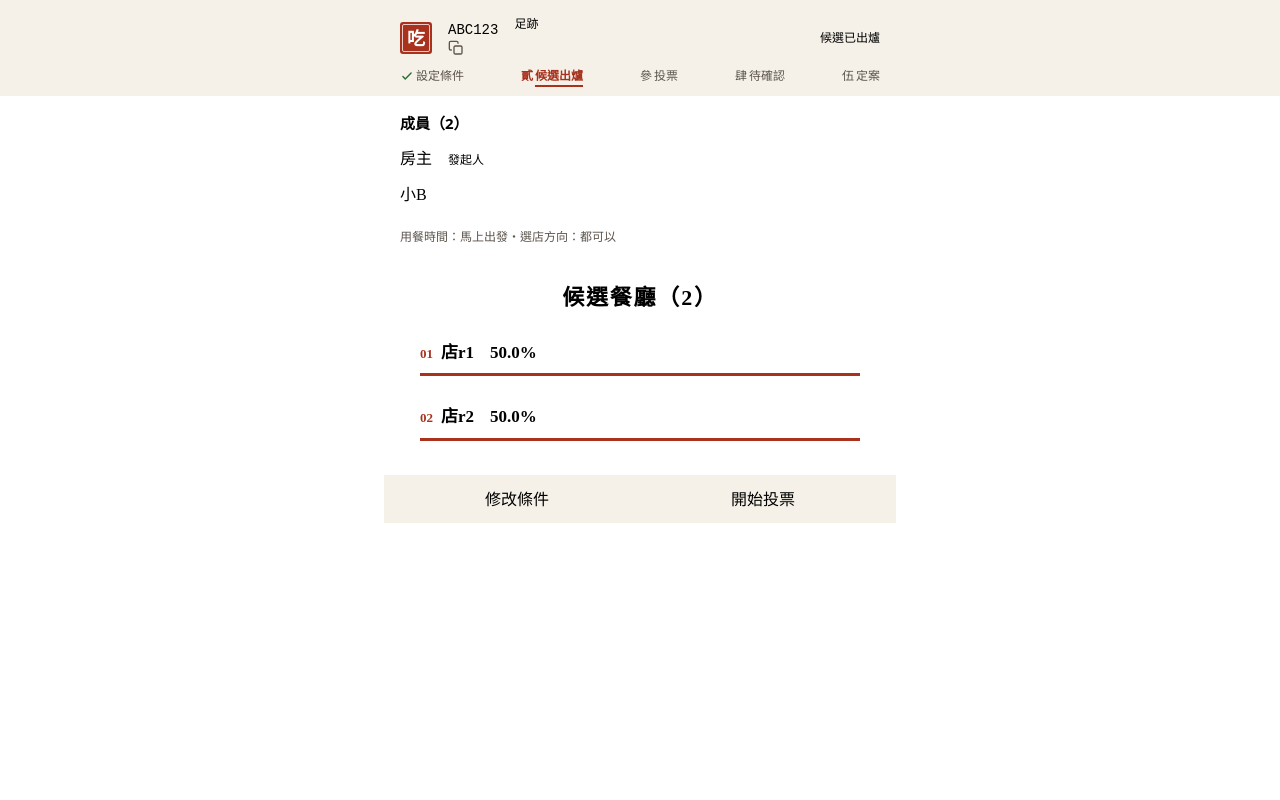
Test case: RoomPage 候選出爐：房主動作 › 開始投票已送出成功、只是重新載入失敗：如實說成功了，請使用者重新整理
Click the button "開始投票": [763, 498] box [646,486,880,510]
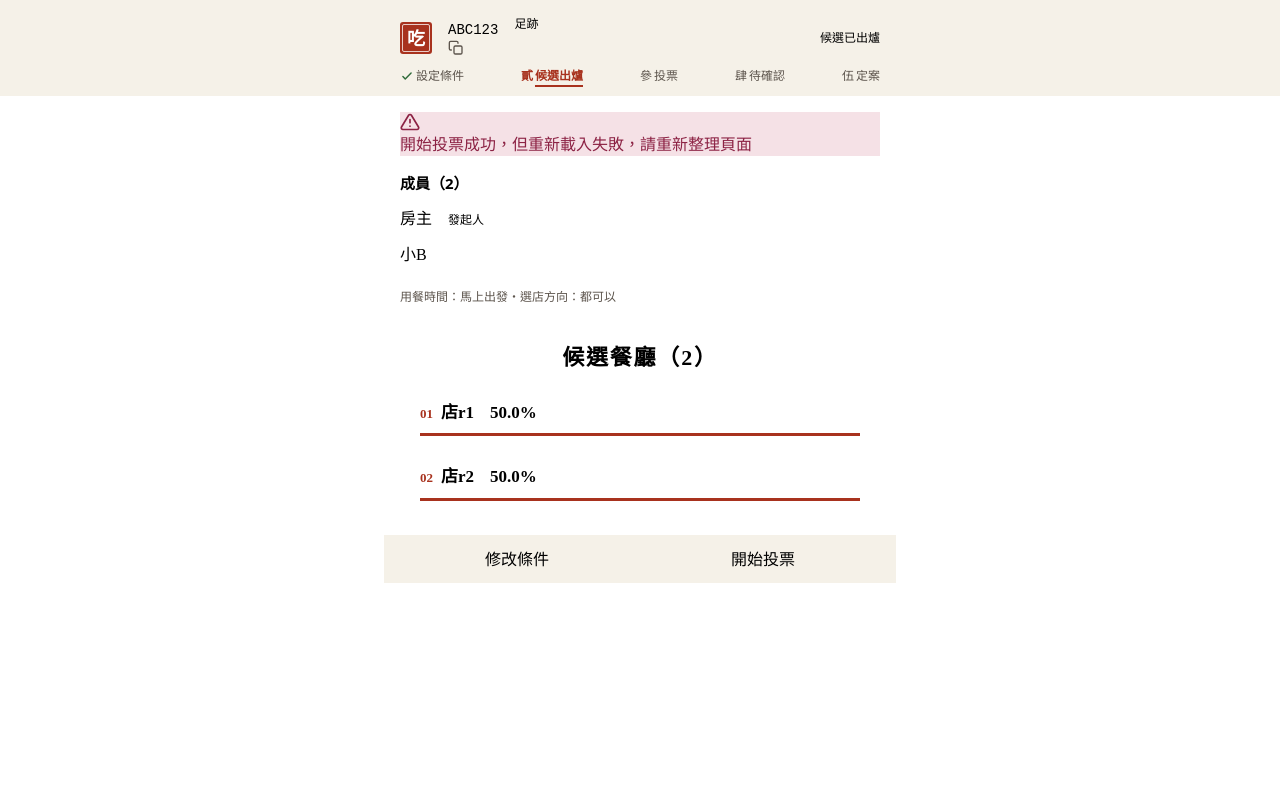
Expected: the button "開始投票" is enabled, [646,546,880,570]
Result: the text "開始投票成功，但重新載入失敗，請重新整理頁面" is shown at [400,133,752,155]
